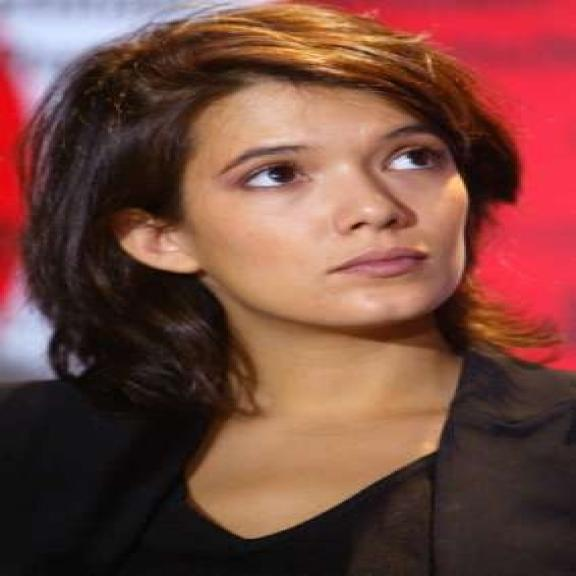face: (102, 70, 510, 333)
